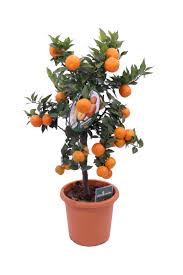orange: (48, 39, 67, 59), (105, 44, 122, 61), (102, 58, 120, 72), (64, 55, 80, 70), (75, 99, 91, 114), (117, 84, 132, 99), (70, 149, 86, 163), (91, 141, 106, 155), (112, 127, 127, 140), (30, 112, 43, 127), (54, 91, 68, 104), (95, 166, 110, 176), (43, 113, 54, 126)
